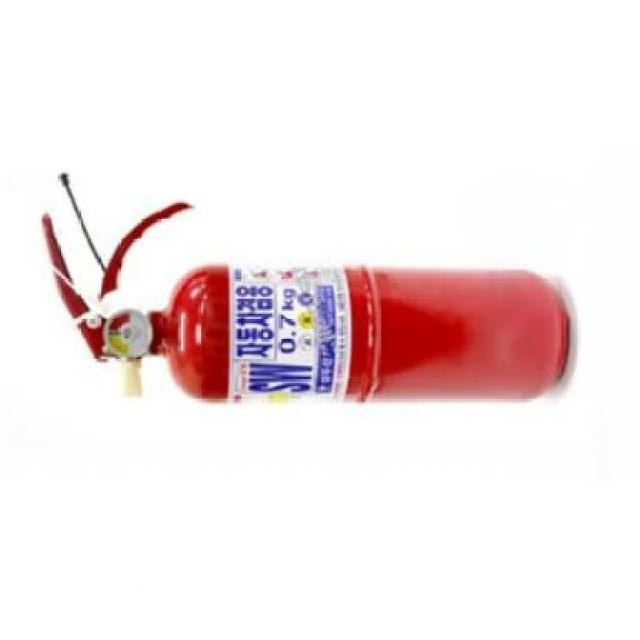fire extinguisher: (41, 171, 570, 405)
